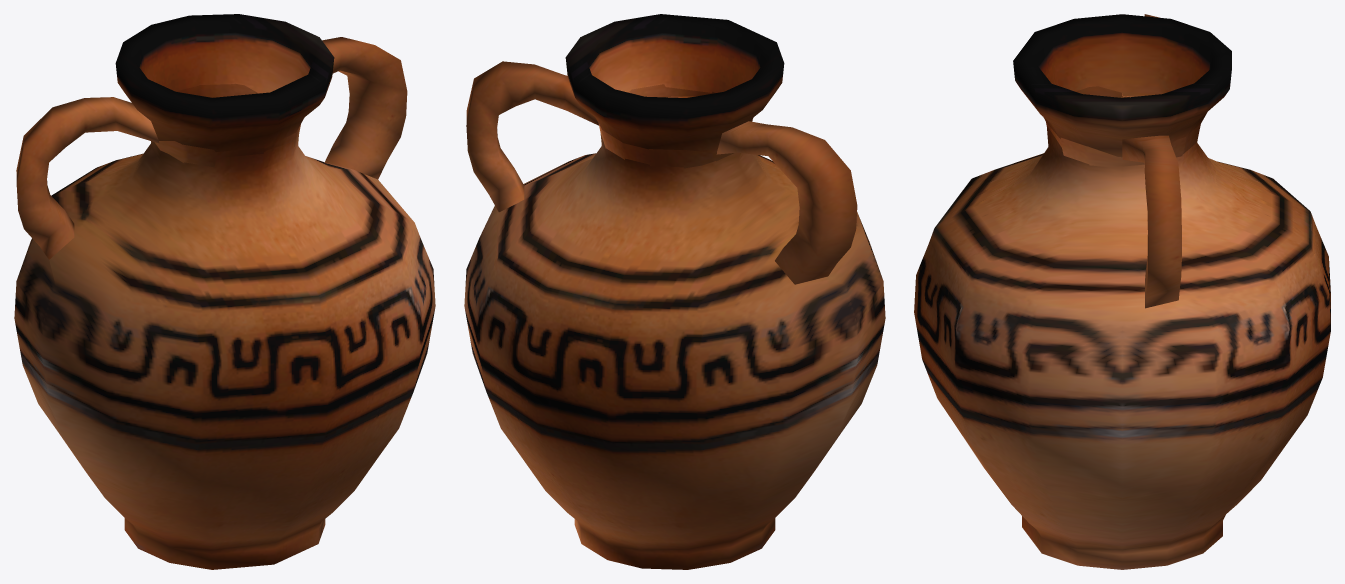
The model's file is amphora3.dae.
The picture shows the model from 3 angles, left to right: view 1: azimuth 30°, elevation 25°; view 2: azimuth 150°, elevation 25°; view 3: azimuth 270°, elevation 25°; orthographic projection.
Parts seen in each view (by area): view 1: meshU3D; view 2: meshU3D; view 3: meshU3D.
Part boxes in pixels (x1=…): meshU3D: x1=14, y1=14, x2=435, y2=569; meshU3D: x1=464, y1=14, x2=885, y2=569; meshU3D: x1=914, y1=14, x2=1330, y2=569.
Size of the model in its own units: 20.38 by 23.29 by 18.83.
1 material, 1 textured.
